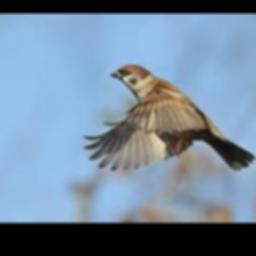Sparrow: (83, 64, 254, 172)
